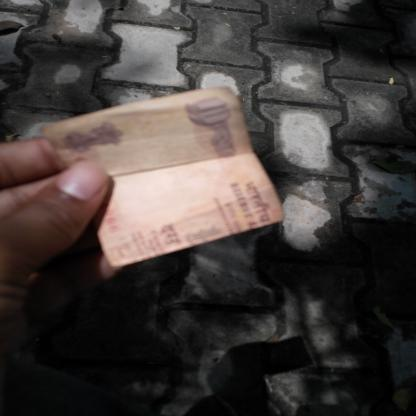Old10Front: (40, 86, 286, 269)
